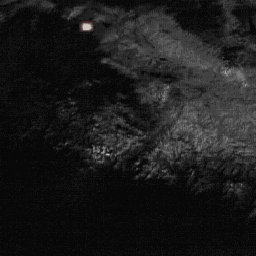Target: (81, 21, 92, 31)
